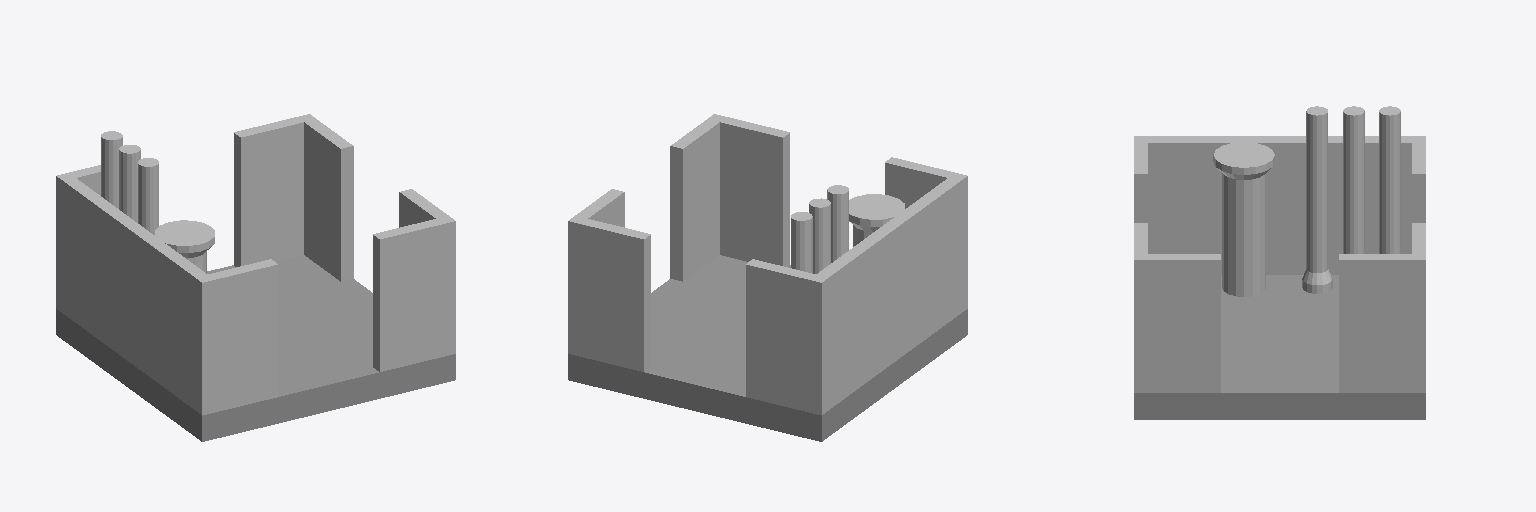
Rendered from big-room_3-exit_3.obj.
The picture shows the model from 3 angles: view 1: azimuth 30°, elevation 25°; view 2: azimuth 150°, elevation 25°; view 3: azimuth 270°, elevation 25°; orthographic projection.
Parts seen in each view (by area): view 1: Cube.007_Cube.008, Cube, Cylinder_Cylinder.000, Cylinder_Cylinder.001; view 2: Cube.007_Cube.008, Cube, Cylinder_Cylinder.000, Cylinder_Cylinder.001; view 3: Cube.007_Cube.008, Cube, Cylinder_Cylinder.000, Cylinder_Cylinder.001.
Boxes of the visible parts, <box> form: Cube.007_Cube.008: <box>56,114,455,415</box>; Cube: <box>56,255,455,441</box>; Cylinder_Cylinder.000: <box>101,131,158,234</box>; Cylinder_Cylinder.001: <box>155,220,214,273</box>; Cube.007_Cube.008: <box>568,114,967,415</box>; Cube: <box>568,255,967,441</box>; Cylinder_Cylinder.000: <box>791,185,848,273</box>; Cylinder_Cylinder.001: <box>849,194,904,246</box>; Cube.007_Cube.008: <box>1134,136,1425,392</box>; Cube: <box>1134,275,1425,419</box>; Cylinder_Cylinder.000: <box>1302,106,1400,293</box>; Cylinder_Cylinder.001: <box>1213,142,1274,296</box>.
Size of the model in its own units: 10 by 7.66 by 10.